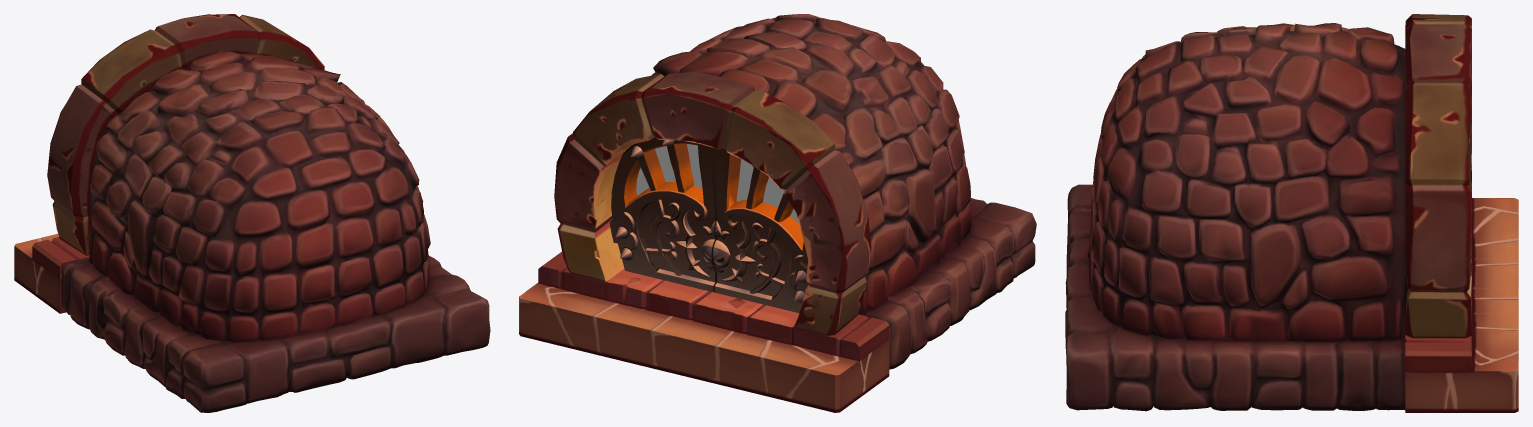
The model's file is Oven.fbx.
3 views of the same model, side by side, from view 1: azimuth 30°, elevation 25°; view 2: azimuth 150°, elevation 25°; view 3: azimuth 270°, elevation 25° (orthographic). The views are drawn at different scales.
Visible parts, largest first — view 1: Mesh_Oven; view 2: Mesh_Oven, Mesh_OvenDoor_L, Mesh_OvenDoor_R, left, center; view 3: Mesh_Oven.
Boxes of the visible parts, bbox=[...] form: Mesh_Oven: bbox=[14, 14, 490, 412]; Mesh_Oven: bbox=[519, 14, 1036, 412]; Mesh_OvenDoor_L: bbox=[609, 137, 716, 292]; Mesh_OvenDoor_R: bbox=[712, 148, 808, 313]; left: bbox=[636, 144, 702, 195]; center: bbox=[687, 145, 772, 205]; Mesh_Oven: bbox=[1065, 14, 1518, 412].
Bounding box in the file's own units: 442 × 344 × 488.
